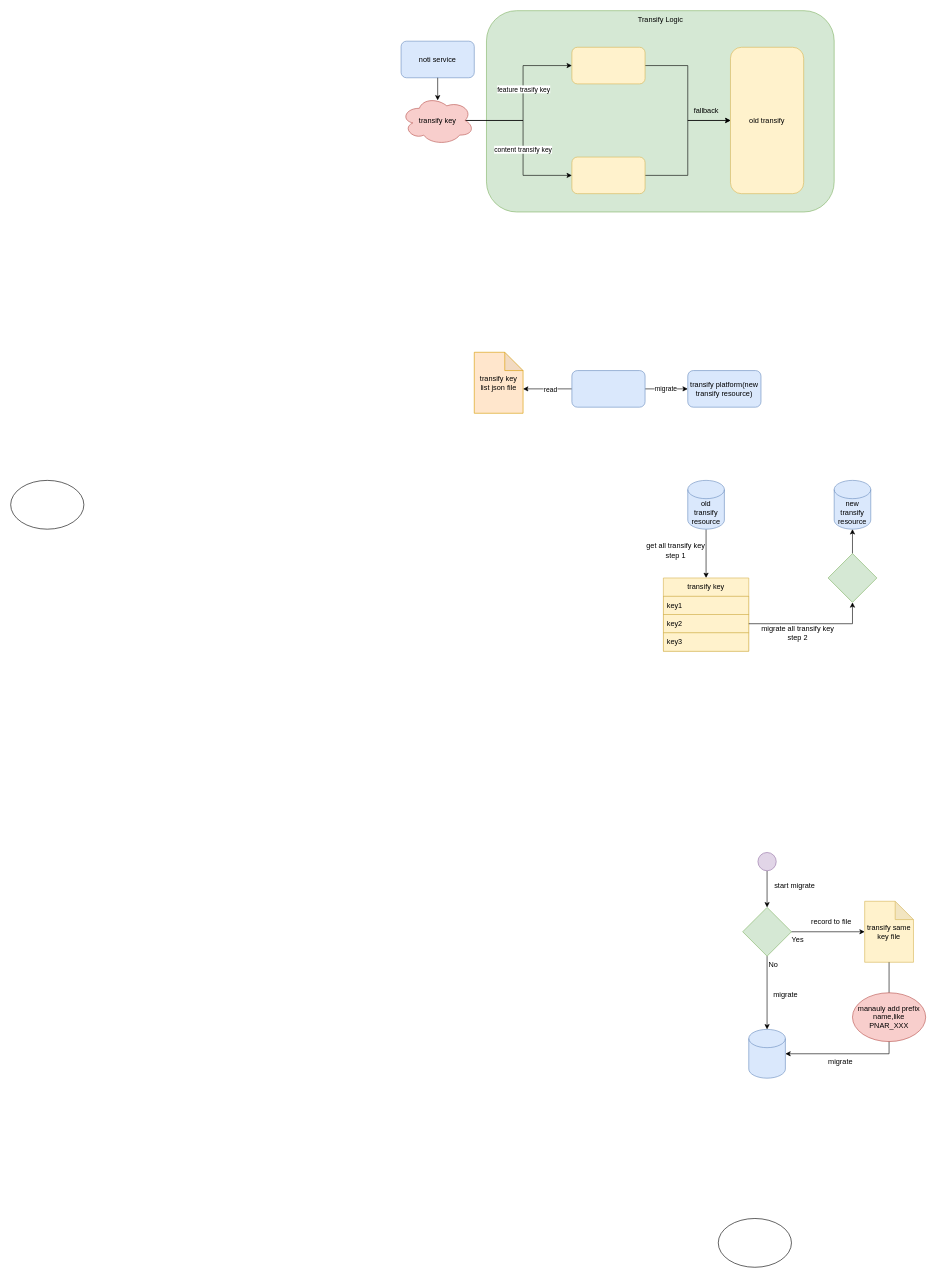
Image size: 936x1278. Some labels were removed from this diagram. Each missing label, with the centre of its shape:
"duplicate API" goes at point (852, 577).
"migrate script" goes at point (608, 388).
"new transif resource" goes at point (766, 1053).
"noti content transify" goes at point (608, 175).
"noti feature transify" goes at point (608, 65).
"same key?" goes at point (766, 931).
